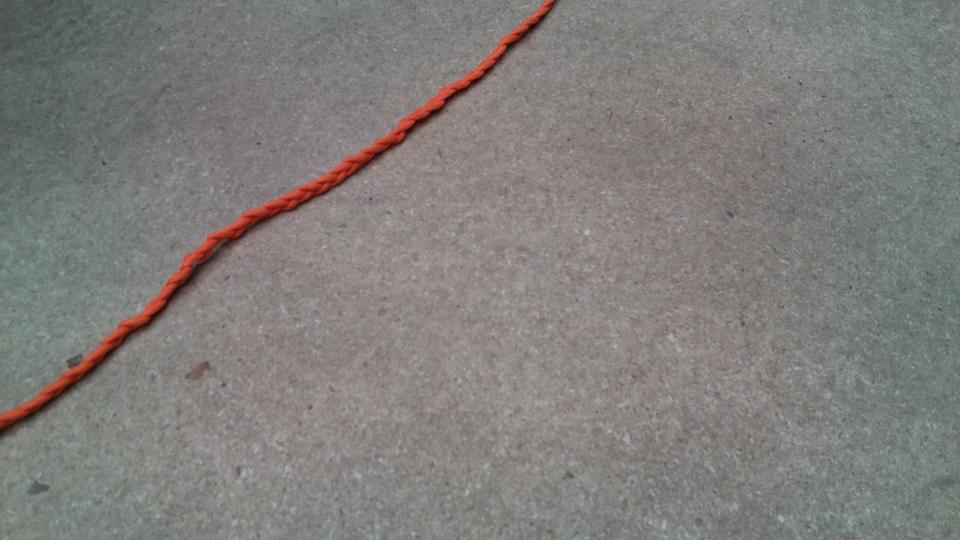rope: (1, 1, 538, 420)
